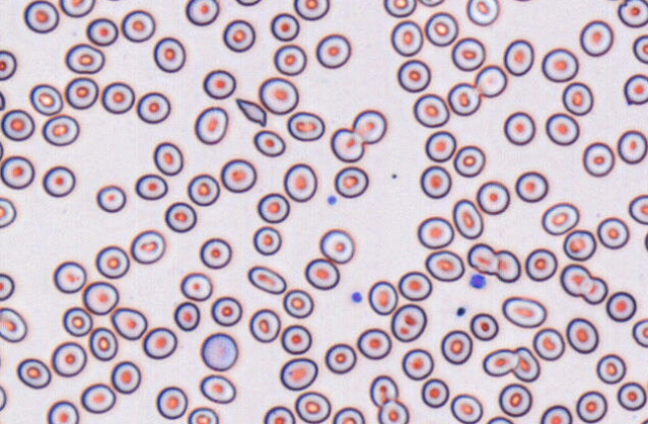PLT: (468, 273, 490, 290), (350, 290, 365, 305), (326, 195, 338, 207)
RBC: (258, 76, 299, 115), (501, 295, 546, 328), (200, 332, 238, 371), (390, 303, 427, 342), (283, 162, 317, 202), (194, 105, 228, 145), (279, 357, 318, 391), (51, 341, 87, 377), (82, 280, 119, 315), (541, 47, 578, 82), (541, 201, 579, 235), (424, 249, 464, 281), (452, 198, 483, 239), (351, 109, 387, 144), (220, 158, 256, 193), (315, 33, 351, 68), (110, 306, 147, 340), (412, 93, 449, 127), (579, 19, 613, 56), (41, 113, 79, 146), (64, 43, 104, 74), (319, 228, 354, 263), (130, 229, 165, 264), (565, 317, 599, 353), (294, 390, 331, 423), (417, 216, 454, 249), (286, 110, 325, 141), (330, 127, 364, 162), (0, 155, 35, 189), (424, 11, 458, 46), (95, 244, 129, 279), (451, 36, 485, 71), (476, 180, 510, 215), (390, 20, 423, 56), (23, 0, 59, 33), (582, 141, 615, 177), (153, 36, 185, 73), (503, 38, 534, 76), (498, 383, 532, 417), (397, 58, 431, 92), (447, 82, 481, 116), (304, 257, 339, 290), (248, 308, 281, 343), (142, 326, 177, 359), (333, 165, 368, 198), (0, 108, 35, 141), (120, 9, 155, 42), (80, 382, 116, 414), (247, 265, 286, 294), (559, 263, 592, 297), (155, 385, 188, 419), (532, 327, 565, 361), (524, 247, 557, 281), (64, 76, 98, 109), (545, 112, 579, 145), (101, 81, 135, 114), (136, 91, 170, 124), (16, 357, 51, 389), (356, 327, 391, 359), (440, 329, 472, 364), (199, 374, 236, 404), (474, 64, 507, 97), (187, 173, 220, 206), (273, 43, 306, 76), (53, 260, 86, 293), (222, 19, 255, 52), (596, 216, 629, 249), (419, 165, 451, 199), (562, 229, 596, 261), (29, 83, 63, 115), (514, 170, 548, 202), (561, 81, 593, 115), (503, 111, 535, 145), (367, 280, 398, 315), (397, 270, 432, 301), (482, 347, 518, 377), (575, 390, 607, 423), (199, 237, 232, 269), (453, 144, 485, 177), (42, 165, 75, 197), (110, 360, 141, 394), (256, 192, 290, 223), (88, 326, 118, 361), (153, 141, 183, 176), (617, 129, 647, 164), (511, 346, 540, 382), (401, 348, 433, 380), (424, 130, 456, 162), (324, 342, 356, 374), (164, 201, 197, 232), (179, 271, 213, 301), (202, 69, 236, 99), (210, 295, 242, 326), (450, 393, 483, 423), (595, 353, 626, 384), (605, 291, 636, 322), (467, 242, 497, 274), (280, 324, 312, 354), (282, 288, 314, 318), (369, 374, 398, 407), (85, 17, 118, 46), (0, 307, 27, 342), (62, 306, 93, 336), (134, 173, 168, 200), (616, 381, 646, 411), (252, 225, 282, 255), (253, 129, 285, 157), (494, 249, 521, 282), (185, 0, 219, 26), (420, 378, 449, 408), (95, 184, 126, 212), (466, 0, 499, 26), (469, 312, 498, 341), (270, 12, 299, 41), (580, 275, 608, 305), (617, 0, 648, 27), (173, 301, 200, 331), (377, 398, 409, 423), (623, 73, 648, 105), (46, 399, 79, 423), (293, 0, 329, 20), (539, 404, 572, 423), (59, 0, 95, 17), (263, 405, 295, 423), (628, 194, 647, 224), (332, 406, 365, 423), (383, 0, 416, 17), (187, 406, 219, 423), (0, 196, 16, 228), (0, 49, 16, 80), (632, 33, 647, 64), (632, 318, 647, 347), (0, 272, 14, 301), (485, 415, 514, 423), (0, 384, 7, 411), (418, 0, 445, 7), (234, 0, 262, 6), (0, 89, 6, 111), (644, 227, 648, 254), (0, 139, 4, 161), (506, 0, 540, 2), (597, 0, 628, 2), (0, 345, 2, 374), (101, 0, 130, 1)
Schistocyte: (234, 96, 271, 127)
